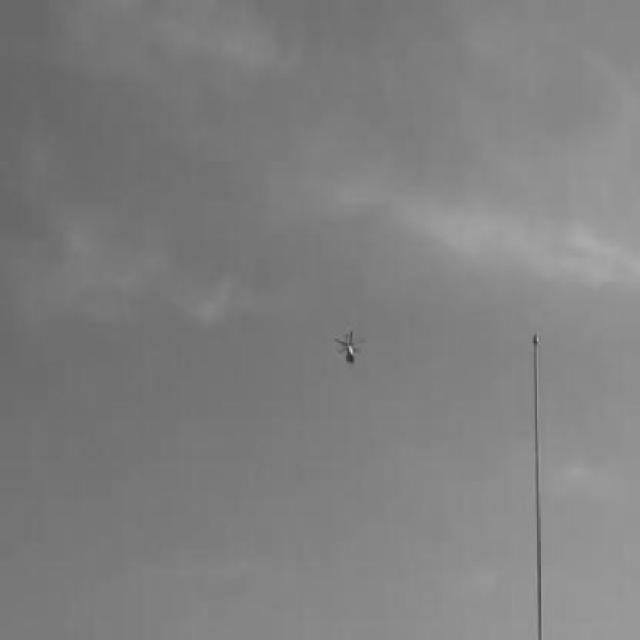helikopter: (329, 324, 363, 370)
